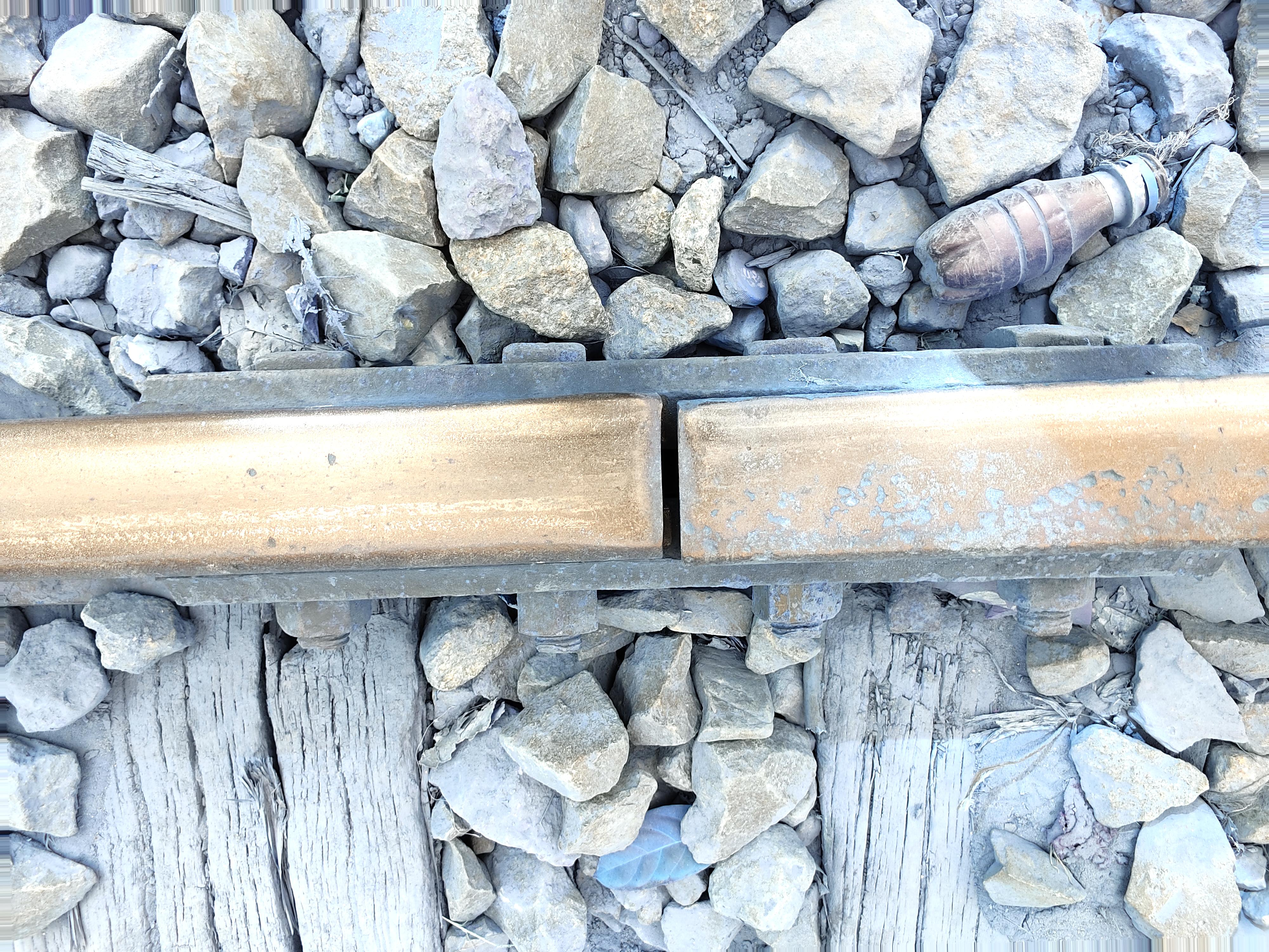tracks_fault: (498, 359, 873, 619)
